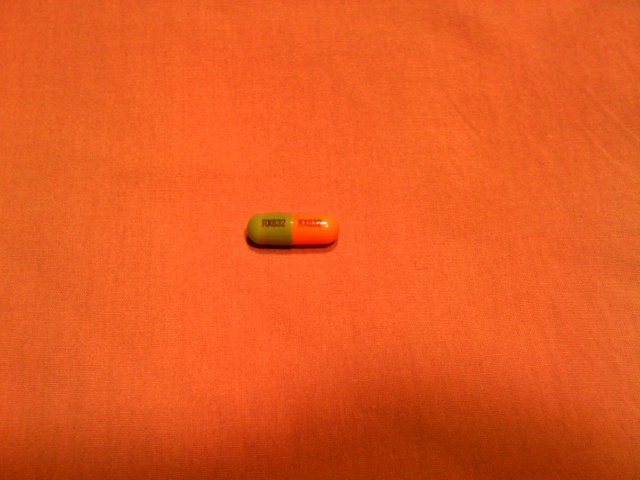capsule: (244, 208, 347, 250)
